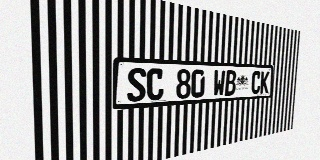0: (191, 69, 205, 98)
8: (176, 69, 191, 99)
B: (225, 70, 236, 96)
C: (146, 68, 164, 101), (251, 71, 261, 94)
K: (260, 71, 269, 94)
S: (127, 68, 146, 102)
W: (213, 70, 225, 97)
